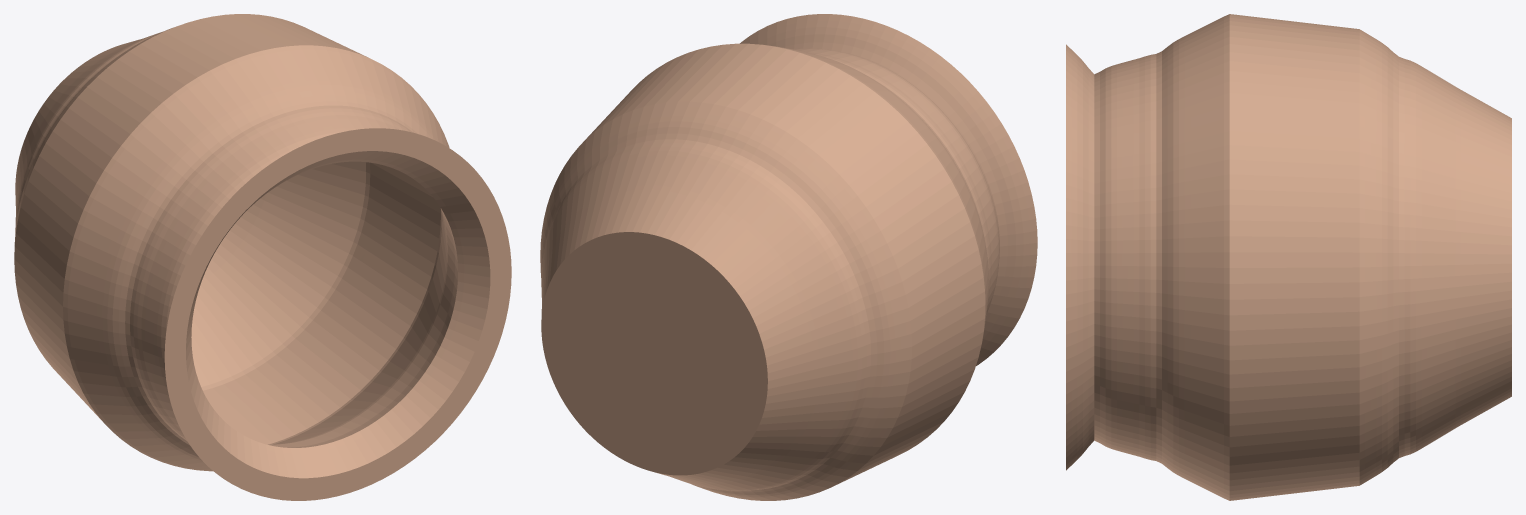
Rendered from Pot_02_Bulbous_Olive.glb.
3 views of the same model, side by side, from view 1: azimuth 30°, elevation 25°; view 2: azimuth 150°, elevation 25°; view 3: azimuth 270°, elevation 25° (orthographic). The views are drawn at different scales.
Visible parts, largest first — view 1: Pot_02_Bulbous_Olive; view 2: Pot_02_Bulbous_Olive; view 3: Pot_02_Bulbous_Olive.
Part boxes in pixels (bbox=[...]): Pot_02_Bulbous_Olive: bbox=[14, 14, 511, 500]; Pot_02_Bulbous_Olive: bbox=[540, 14, 1037, 500]; Pot_02_Bulbous_Olive: bbox=[1066, 14, 1511, 500].
Size of the model in its own units: 0.2239 by 0.2239 by 0.205.
